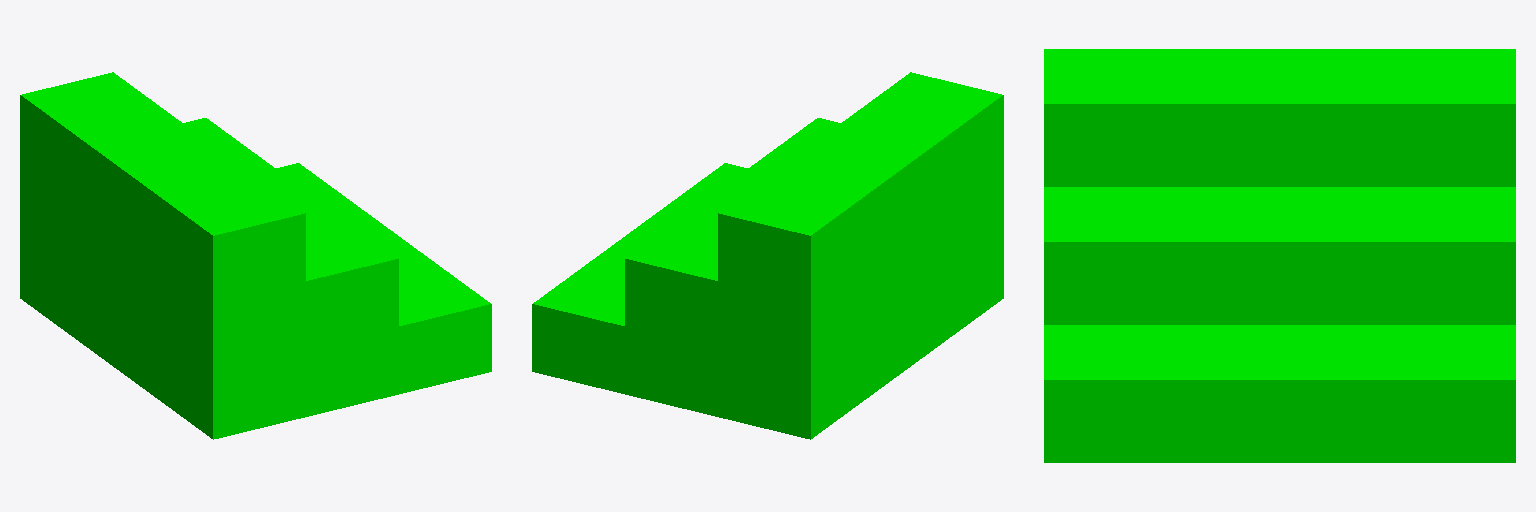
robot.urdf — stairs:
<robot
  name="stairs">
  <link name="base_link">
    <inertial>
      <origin xyz="0 0 0"
        rpy="0 0 0" />
      <mass value="23.5" />
      <inertia
        ixx="2.662714"
        ixy="-0.001741"
        ixz="-0.446500"
        iyy="1.766451"
        iyz="0.000057"
        izz="3.344618" />
    </inertial>
    <visual>
      <origin xyz="0 0 .0889"
        rpy="0 0 0" />
      <geometry>
       <box size=".762 .9144 .1778"/>
      </geometry>
      <material name="">
        <color rgba="0 1 0 1" />
      </material>
    </visual>
<collision>   
<origin xyz="0 0 .0889"
        rpy="0 0 0" />
      <geometry>
        <box size=".762 .9144 .1778"/>
      </geometry>
      <material name="">
        <color rgba="0 1 0 1" />
      </material>
</collision> 
    <visual>
      <origin xyz="-.127 0 .2667"
        rpy="0 0 0" />
      <geometry>
       <box size=".508 .9144 .1778"/>
      </geometry>
      <material name="">
        <color rgba="0 1 0 1" />
      </material>
    </visual>
<collision>   
<origin xyz="-.127 0 .2667"
        rpy="0 0 0" />
      <geometry>
        <box size=".508 .9144 .1778"/>
      </geometry>
      <material name="">
        <color rgba="0 1 0 1" />
      </material>
</collision> 

<visual>
      <origin xyz="-.254 0 .4445"
        rpy="0 0 0" />
      <geometry>
       <box size=".254 .9144 .1778"/>
      </geometry>
      <material name="">
        <color rgba="0 1 0 1" />
      </material>
    </visual>
<collision>   
<origin xyz="-.254 0 .4445"
        rpy="0 0 0" />
      <geometry>
        <box size=".254 .9144 .1778"/>
      </geometry>
      <material name="">
        <color rgba="0 1 0 1" />
      </material>
</collision> 
  </link>
</robot>

--- Facts derived from the render (not from the file) ---
3 views of the same robot in one strip: view 1: azimuth 30°, elevation 25°; view 2: azimuth 150°, elevation 25°; view 3: azimuth 270°, elevation 25° (orthographic).
Robot: stairs — 1 links, 0 joints (none); root link base_link; default pose: every joint at zero.
Visible links, largest first — view 1: base_link; view 2: base_link; view 3: base_link.
Boxes of the visible links, x1,y1,x2,y2 form: base_link: (20,72,491,439); base_link: (532,72,1003,439); base_link: (1044,49,1515,462).
Bounding box of the posed robot: 0.762 × 0.9144 × 0.5334 m (x, y, z).
Geometry: primitives only (box / cylinder / sphere), no mesh files.